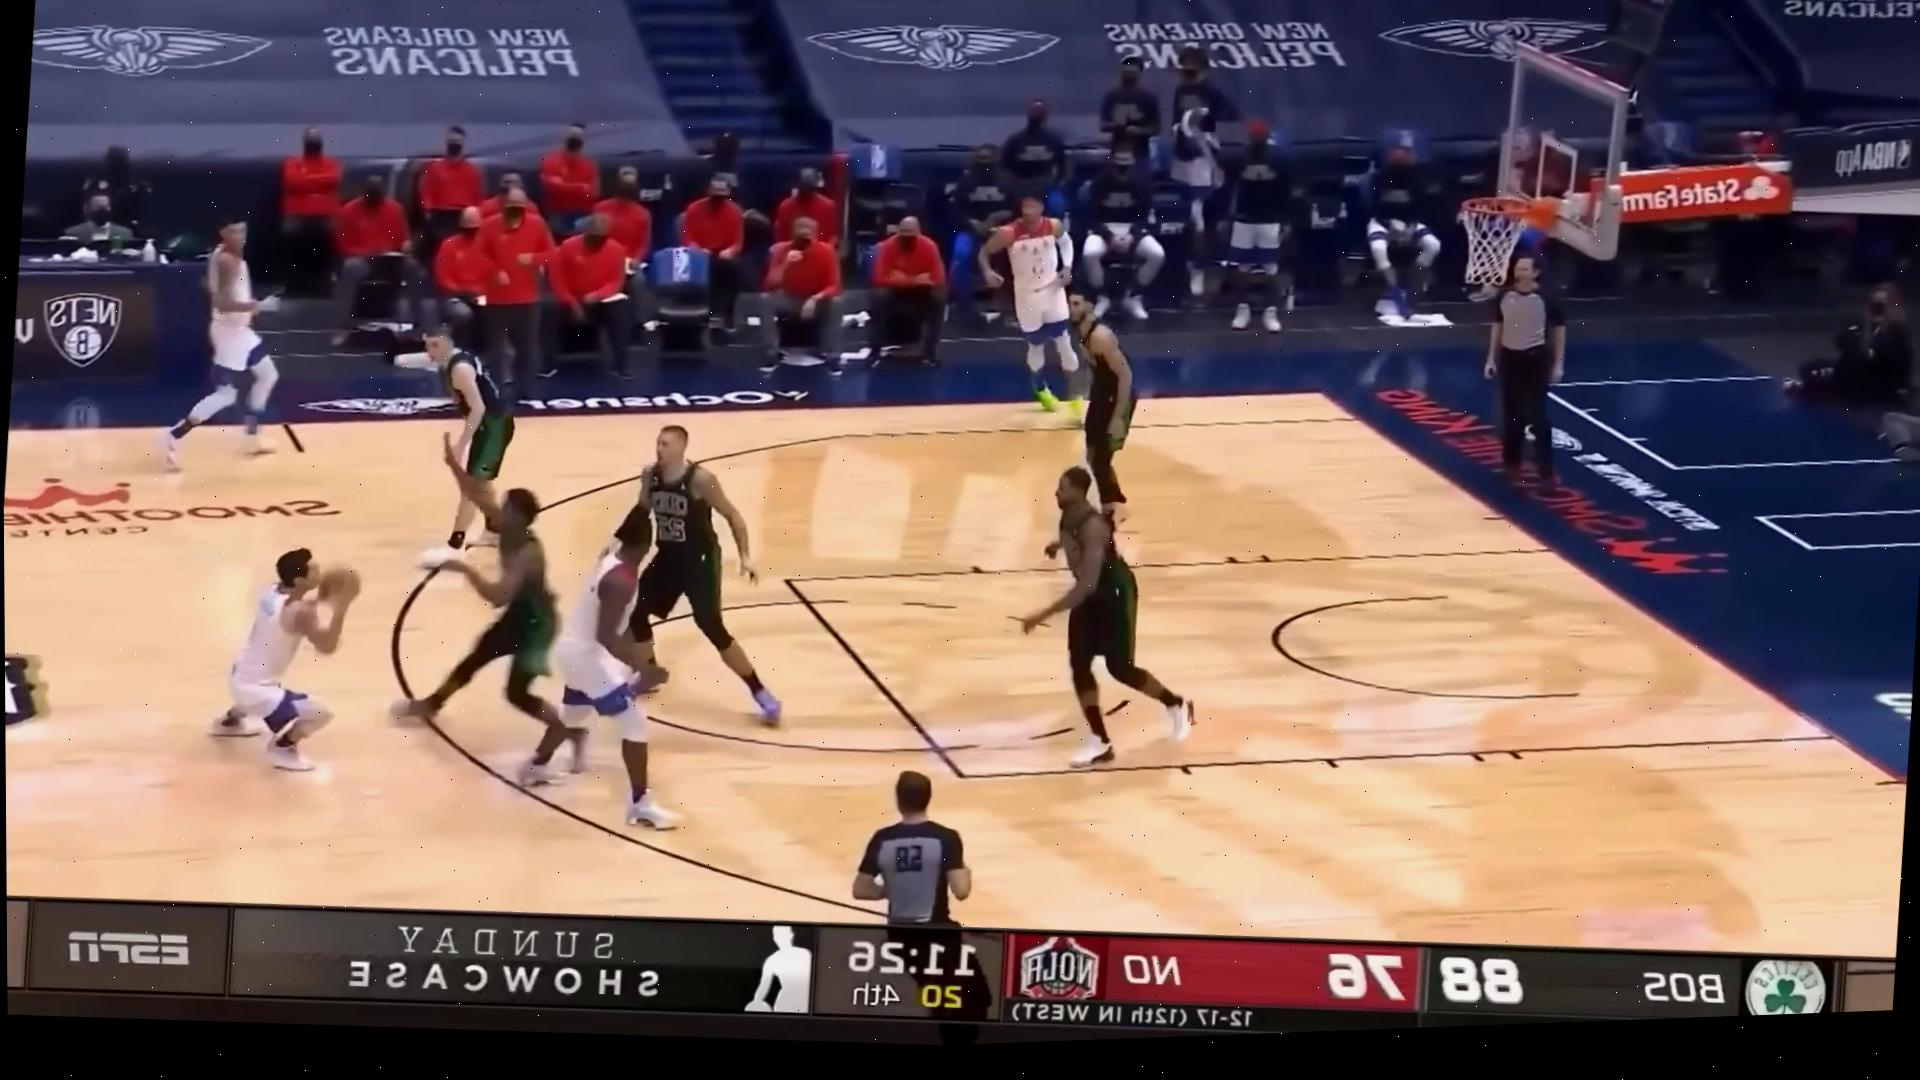no_foul: (185, 426, 575, 809)
